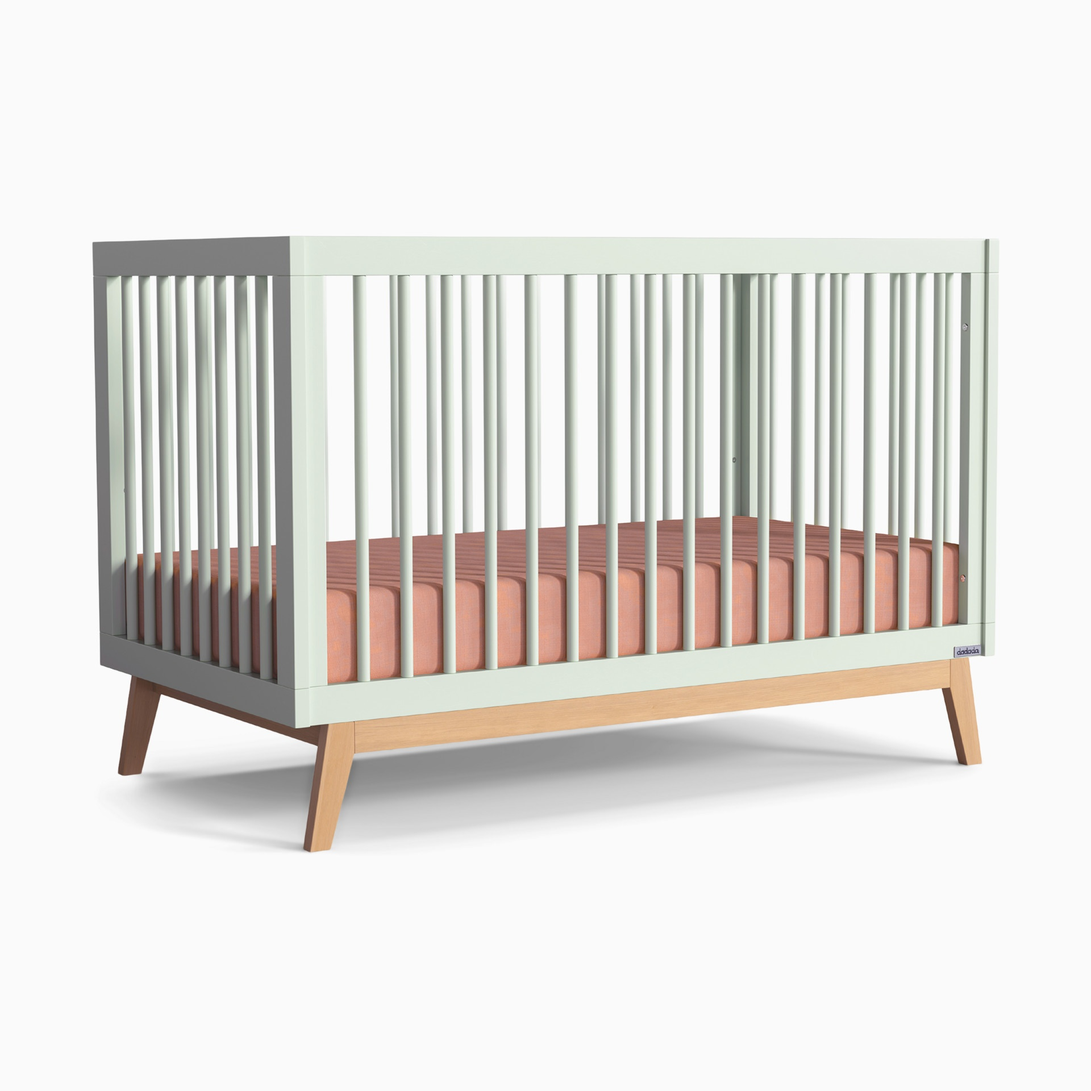crib: (95, 237, 997, 849)
